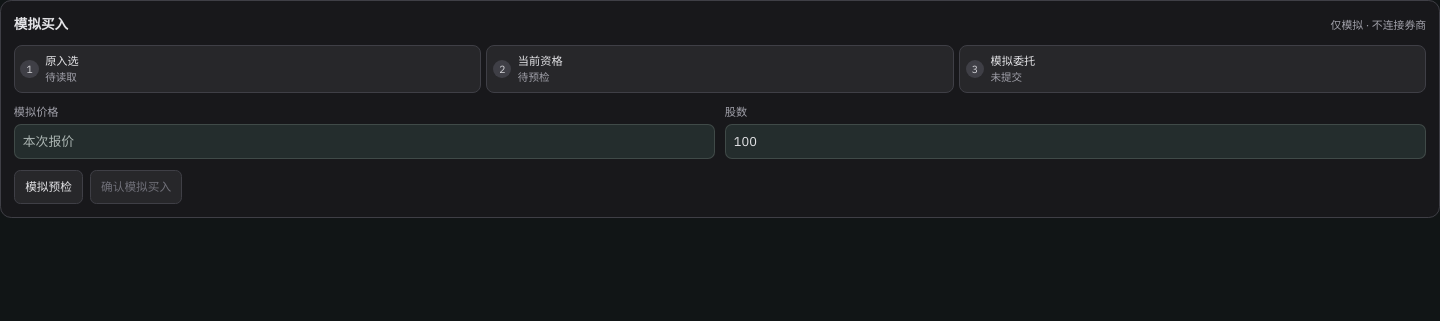
Test case: shows the actual market_closed gate without manufacturing an order
The image size is (1440, 321).
Click the button "模拟预检". click: (49, 187)
box: 14,170 -> 83,204
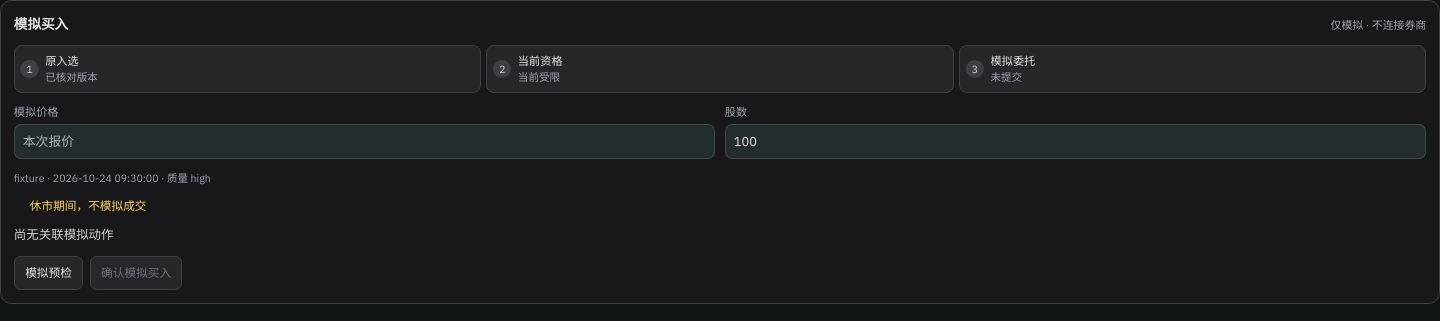
Expected: the button "确认模拟买入" is disabled, 90,256 -> 182,290
Result: the list item "休市期间，不模拟成交" is shown at 30,198 -> 146,213
